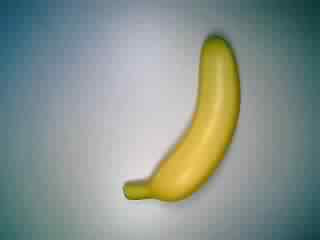banana: (119, 29, 244, 207)
